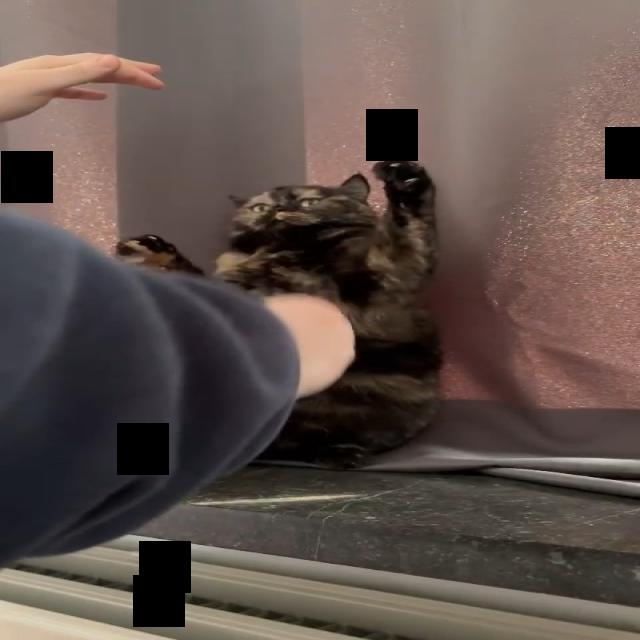authorized: (212, 157, 444, 469)
